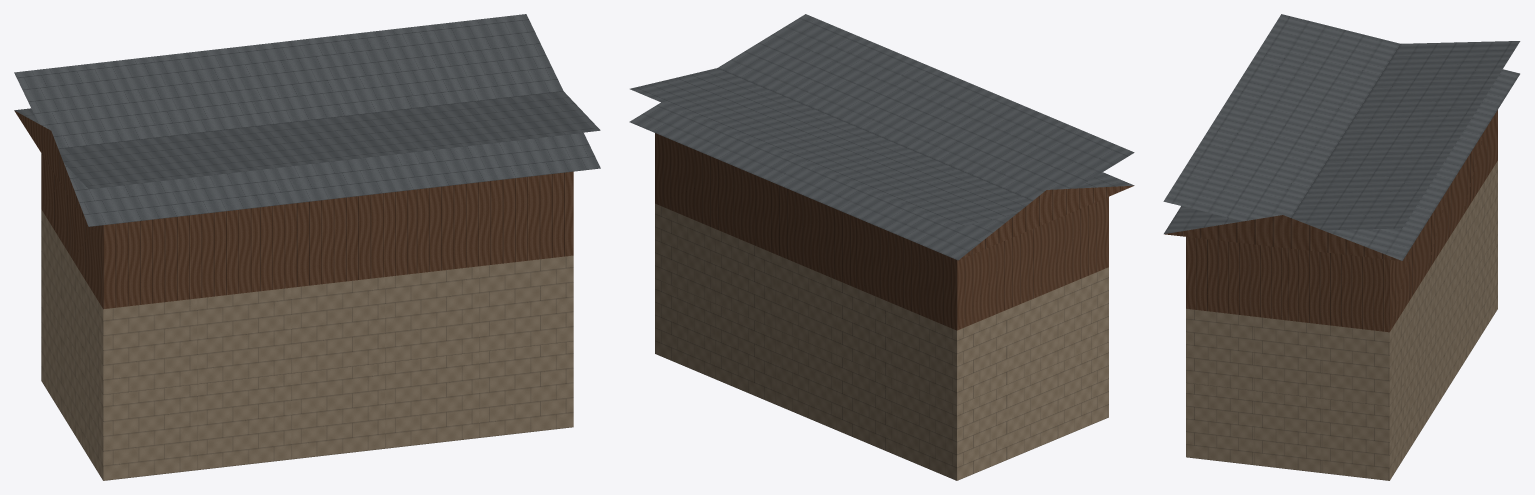
Rendered from bld_c8_42_510.gltf.
3 views of the same model, side by side, from view 1: azimuth 30°, elevation 25°; view 2: azimuth 150°, elevation 25°; view 3: azimuth 270°, elevation 25° (orthographic). The views are drawn at different scales.
Parts seen in each view (by area): view 1: bld_c8_42_510; view 2: bld_c8_42_510; view 3: bld_c8_42_510.
Boxes of the visible parts, x1,y1,x2,y2 form: bld_c8_42_510: (14, 14, 600, 480); bld_c8_42_510: (629, 14, 1134, 480); bld_c8_42_510: (1163, 14, 1520, 480).
Size of the model in its own units: 14.05 by 8 by 9.89.
Materials: 4 (4 with a texture image).
